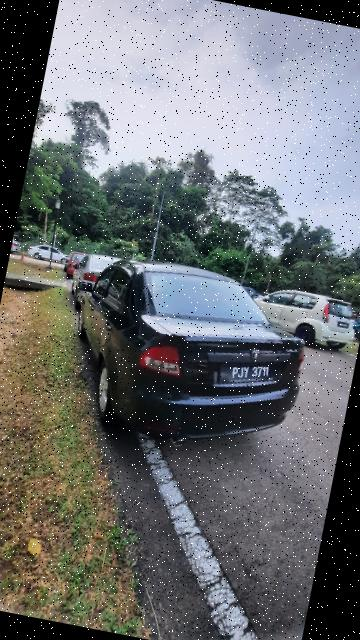License_Plate: (218, 353, 284, 400)
car: (57, 241, 321, 471)
